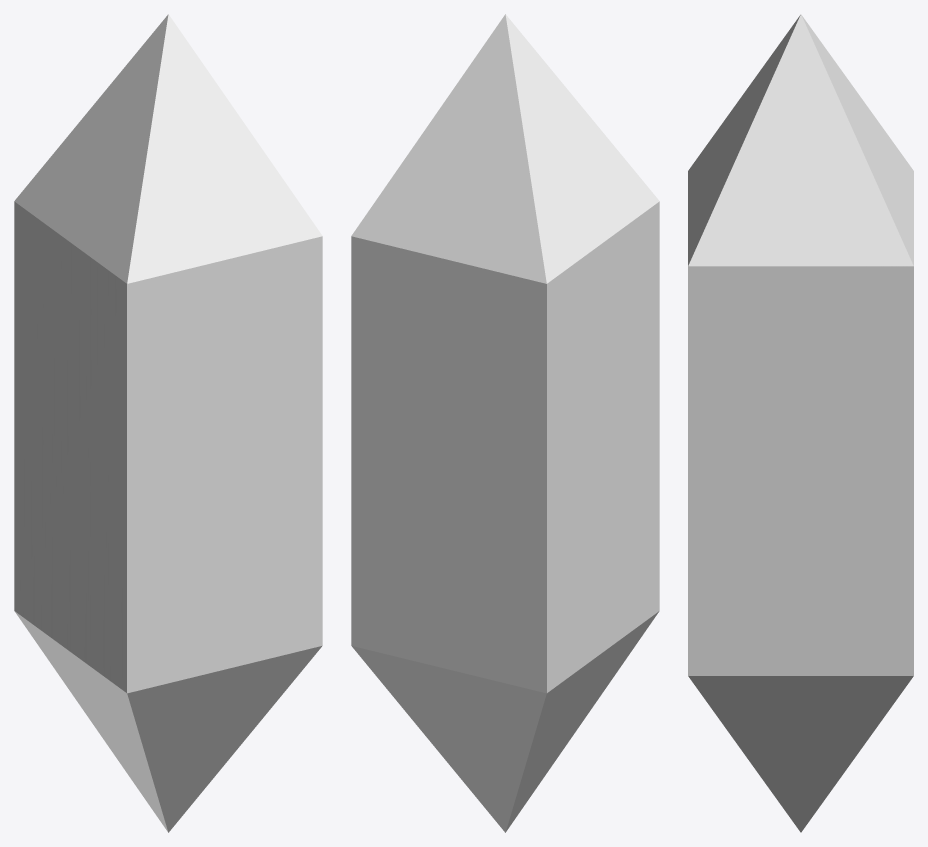
Rendered from crystal_big.obj.
3 renders of one model, left to right at view 1: azimuth 30°, elevation 25°; view 2: azimuth 150°, elevation 25°; view 3: azimuth 270°, elevation 25°, orthographic.
Size of the model in its own units: 0.25 by 1 by 0.25.
